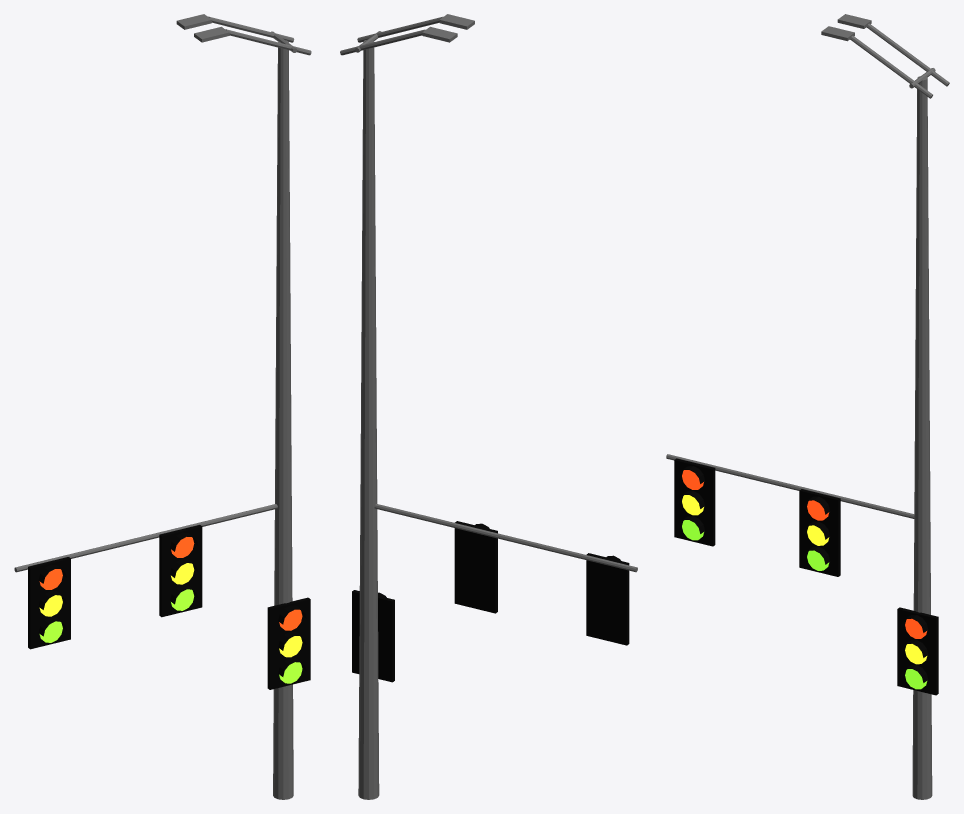
The model's file is street light and traffic light .fbx.
3 views of the same model, side by side, from view 1: azimuth 30°, elevation 25°; view 2: azimuth 150°, elevation 25°; view 3: azimuth 330°, elevation 25° (orthographic). The views are drawn at different scales.
Parts seen in each view (by area): view 1: Cylinder; view 2: Cylinder; view 3: Cylinder.
Boxes of the visible parts, bbox=[...] form: Cylinder: bbox=[14, 14, 311, 799]; Cylinder: bbox=[340, 14, 637, 799]; Cylinder: bbox=[666, 14, 949, 799].
Size of the model in its own units: 481 by 73 by 1256.
